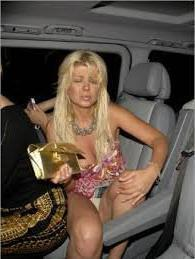Drunk: (71, 60, 99, 108)
